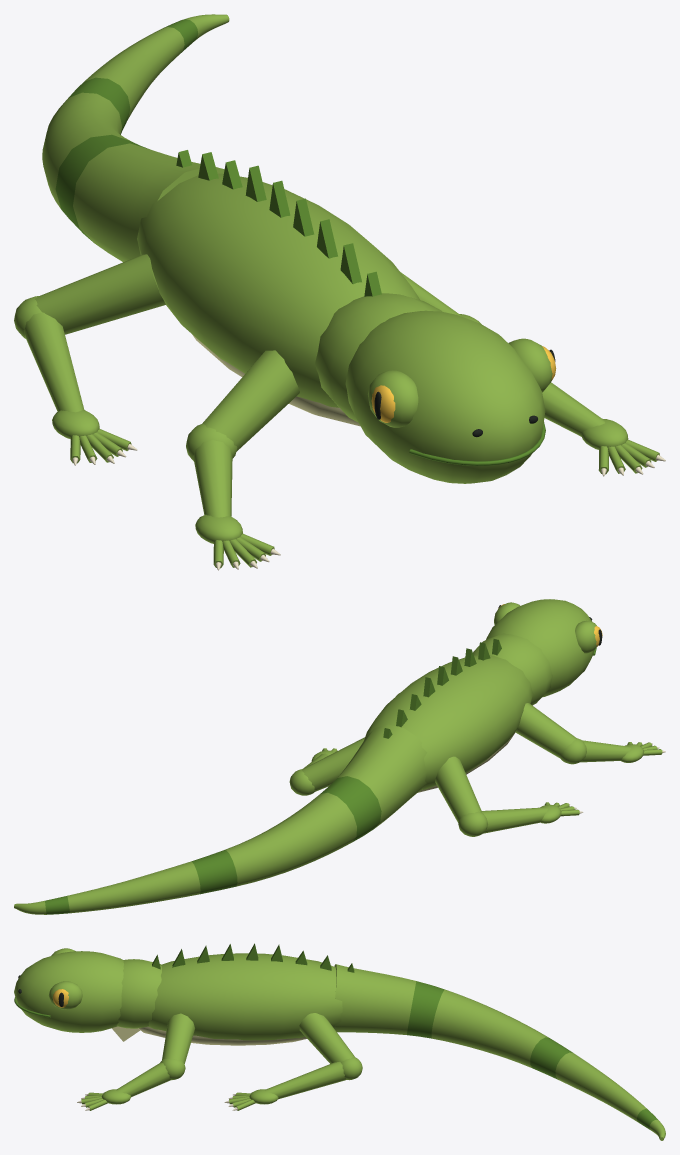
The model's file is lizard_green_iguana.glb.
3 renders of one model, top to bottom at view 1: azimuth 30°, elevation 25°; view 2: azimuth 150°, elevation 25°; view 3: azimuth 270°, elevation 25°, orthographic. The views are drawn at different scales.
Parts seen in each view (by area): view 1: Long lizard torso, Lizard head, Long tapering iguana tail, Lizard upper limb.001, Connected lizard neck, Lizard upper limb, Lizard lower limb.001, Lizard lower limb, Lizard lower limb.002, Raised eye socket, Raised eye socket.001, Lizard foot.001 (+4 smaller); view 2: Long tapering iguana tail, Long lizard torso, Lizard head, Connected lizard neck, Lizard upper limb.001, Lizard upper limb, Lizard upper limb.003, Lizard lower limb.001, Lizard lower limb, Lizard elbow or knee.001, Raised eye socket, Lizard elbow or knee (+1 smaller); view 3: Long tapering iguana tail, Long lizard torso, Lizard head, Connected lizard neck, Lizard upper limb.003, Lizard lower limb.003, Lizard upper limb.002, Lizard lower limb.002, Pale underside, Raised eye socket.001, Lizard elbow or knee.003, Lizard elbow or knee.002 (+2 smaller).
Part boxes in pixels (box(x1,y1,x2,y2)): Long lizard torso: box(137, 173, 419, 407); Lizard head: box(345, 310, 545, 483); Long tapering iguana tail: box(42, 14, 229, 262); Lizard upper limb.001: box(34, 254, 165, 334); Connected lizard neck: box(315, 293, 442, 422); Lizard upper limb: box(201, 350, 299, 451); Lizard lower limb.001: box(23, 312, 84, 412); Lizard lower limb: box(193, 440, 232, 517); Lizard lower limb.002: box(542, 382, 605, 436); Raised eye socket: box(368, 370, 418, 427); Raised eye socket.001: box(508, 338, 552, 392); Lizard foot.001: box(52, 410, 99, 438); Long tapering iguana tail: box(14, 724, 427, 914); Long lizard torso: box(364, 655, 533, 789); Lizard head: box(486, 599, 594, 697); Connected lizard neck: box(473, 633, 552, 705); Lizard upper limb.001: box(435, 756, 481, 821); Lizard upper limb: box(515, 703, 575, 757); Lizard upper limb.003: box(302, 737, 364, 791); Lizard lower limb.001: box(481, 807, 547, 833); Lizard lower limb: box(580, 740, 630, 762); Lizard elbow or knee.001: box(458, 811, 487, 836); Raised eye socket: box(575, 620, 596, 653); Lizard elbow or knee: box(559, 738, 586, 764); Long tapering iguana tail: box(334, 964, 665, 1140); Long lizard torso: box(148, 953, 342, 1040); Lizard head: box(14, 951, 123, 1032); Connected lizard neck: box(117, 959, 161, 1028); Lizard upper limb.003: box(299, 1013, 354, 1063); Lizard lower limb.003: box(264, 1062, 346, 1099); Lizard upper limb.002: box(162, 1013, 194, 1063); Lizard lower limb.002: box(116, 1062, 170, 1096); Pale underside: box(138, 1026, 306, 1045); Raised eye socket.001: box(48, 981, 82, 1009); Lizard elbow or knee.003: box(340, 1057, 362, 1080); Lizard elbow or knee.002: box(160, 1058, 185, 1079).
Bounding box in the file's own units: 0.6822 × 0.2493 × 1.31.
